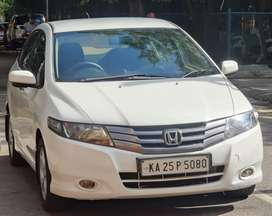KA25P5080: (140, 156, 209, 176)
